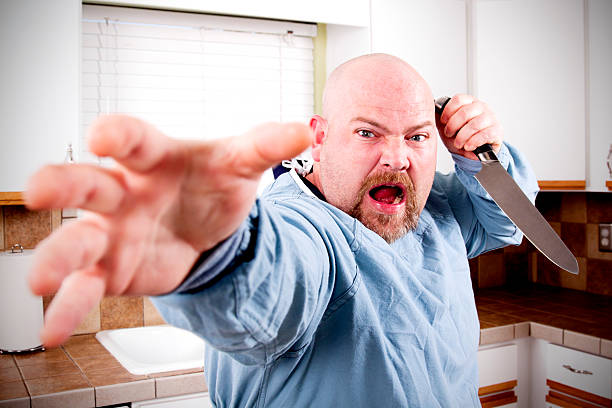knife: (435, 96, 581, 276)
